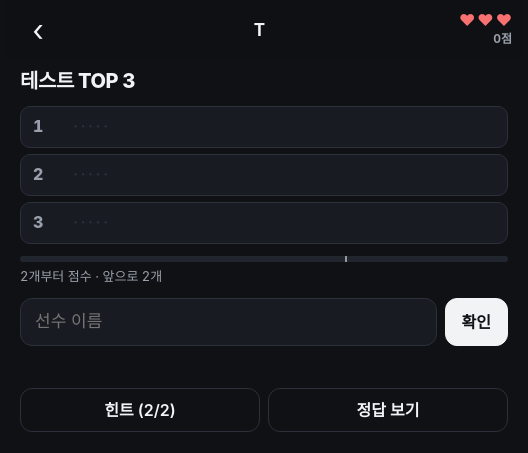
it: Top10Game › 힌트 버튼 카운트 + 다 쓰면 비활성 + 칸에 소속/국적 노출
The width and height of the screenshot is (528, 453).
Click the button "힌트 (2/2)". click: (140, 410)
box: [20, 388, 260, 432]
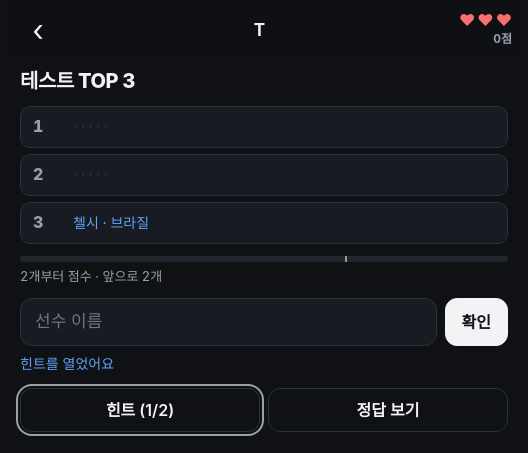
Result: the button "힌트 (1/2)" is shown
Click the button "힌트 (1/2)". click: (140, 410)
box: [20, 388, 260, 432]
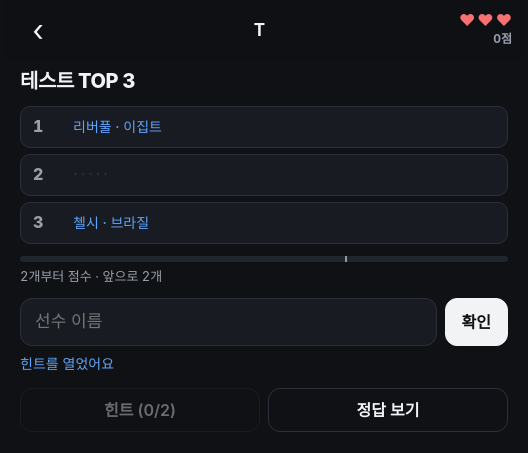
Result: the button "힌트 (0/2)" is disabled at [20, 388, 260, 432]
Result: the text "리버풀 · 이집트" is shown 2 times at [73, 118, 162, 135]; [73, 214, 149, 231]
